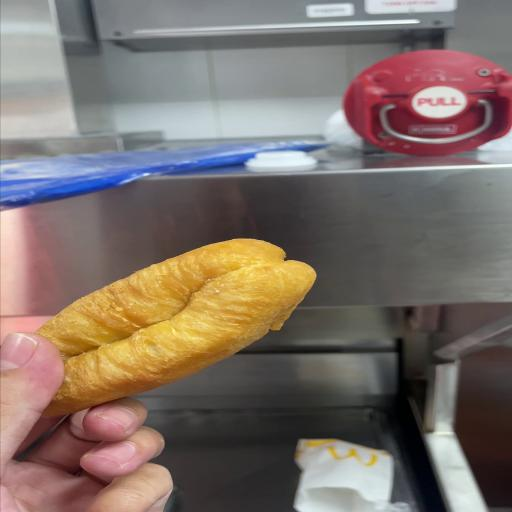brand_golden_good: (39, 239, 315, 415)
